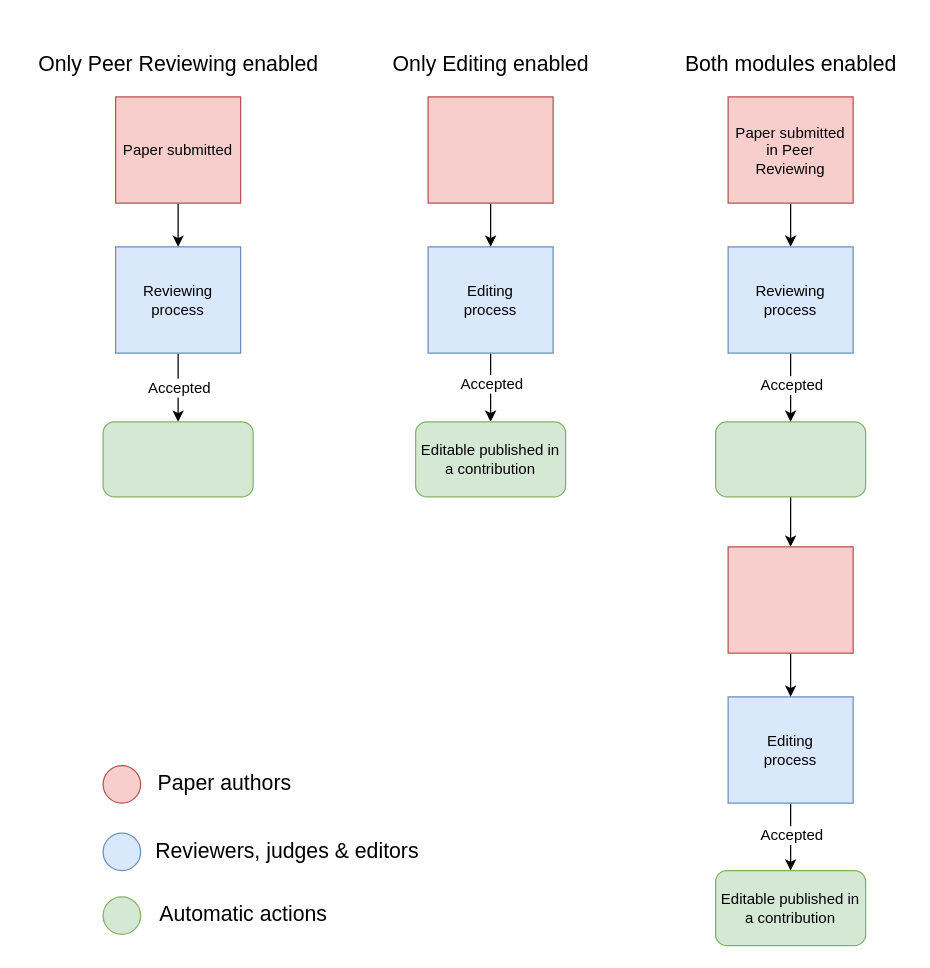
Some shapes in this 930 by 968 pixel diagram are drawn without their labels. Each missing label, with the box of its shape:
Editable (paper, poster, slides) submitted: (427, 96, 553, 203)
Paper passed to the Editing module: (727, 546, 853, 653)
Paper published in a contribrution: (102, 421, 253, 497)
Paper published in a contribution: (714, 421, 866, 497)
